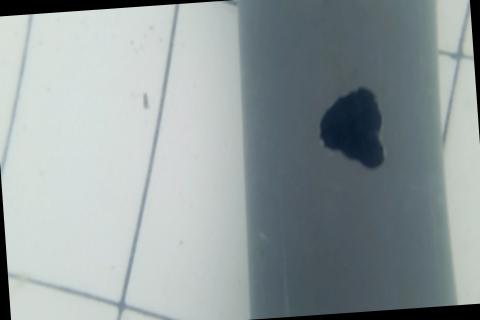kebocoran: (313, 81, 387, 178)
